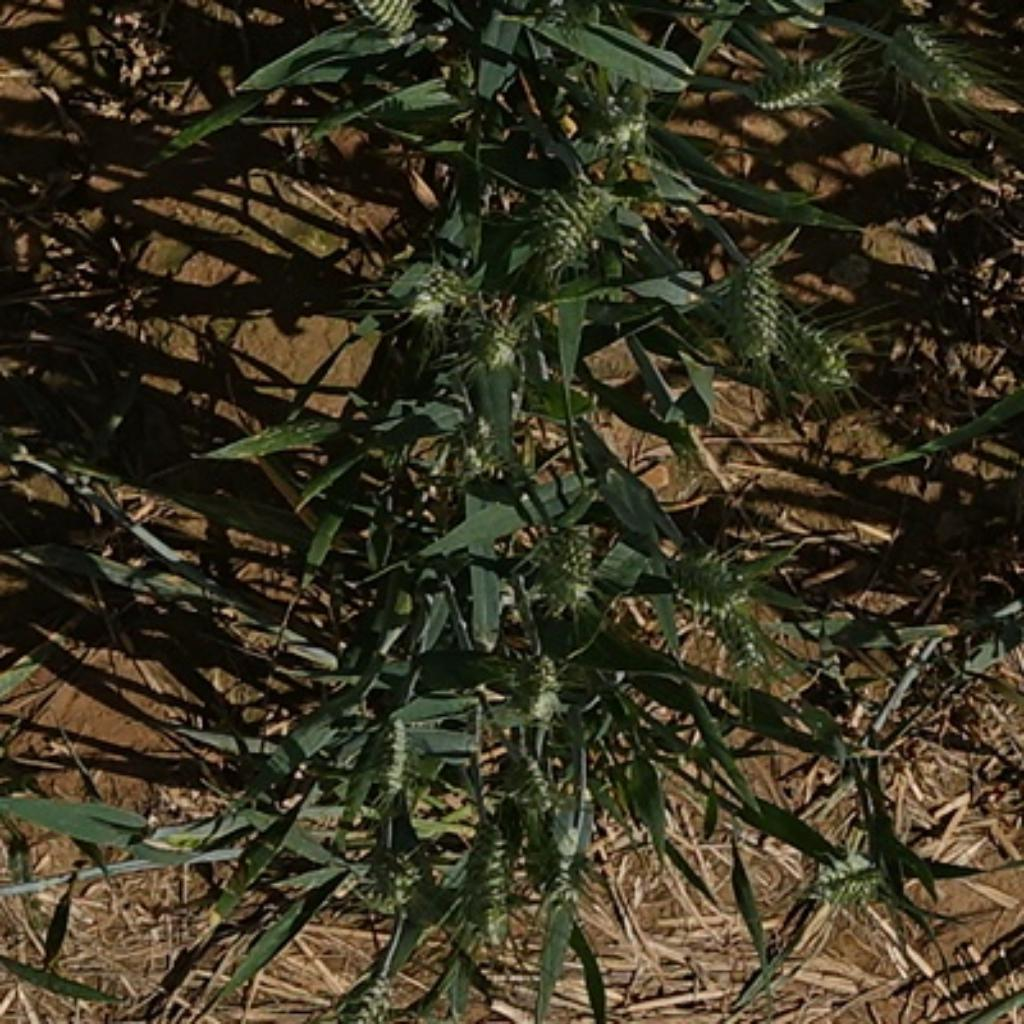0-0: (872, 10, 993, 107), (455, 814, 532, 952), (701, 245, 791, 363), (414, 404, 522, 499), (663, 535, 768, 629), (519, 176, 619, 271), (701, 601, 798, 688), (568, 71, 665, 156), (499, 747, 576, 849), (765, 304, 852, 394), (389, 235, 476, 325), (514, 514, 599, 606), (803, 844, 898, 924), (448, 286, 532, 373), (739, 48, 852, 112), (481, 645, 560, 727), (360, 709, 419, 816), (370, 845, 431, 906), (338, 973, 396, 1024), (335, 0, 422, 33)
